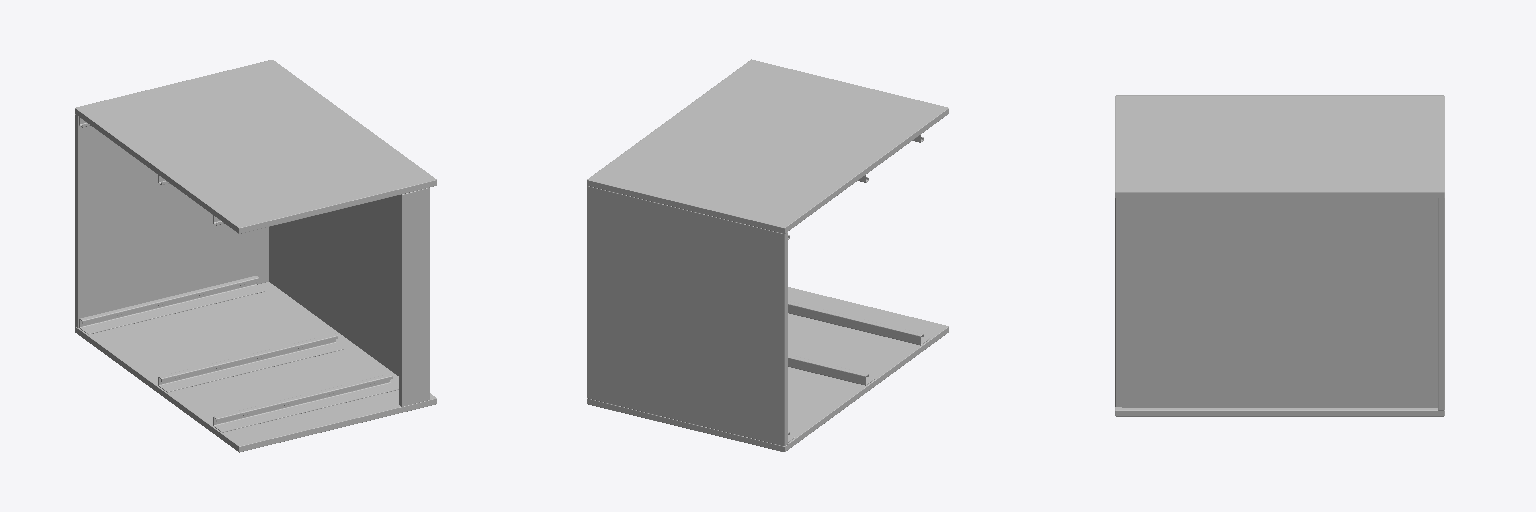
The model's file is SM_Kitchen_05_Base.obj.
The picture shows the model from 3 angles: view 1: azimuth 30°, elevation 25°; view 2: azimuth 150°, elevation 25°; view 3: azimuth 270°, elevation 25°; orthographic projection.
Visible parts, largest first — view 1: SM_Kitchen_05_Base; view 2: SM_Kitchen_05_Base; view 3: SM_Kitchen_05_Base.
Part boxes in pixels (bbox=[...]): SM_Kitchen_05_Base: bbox=[75, 60, 436, 452]; SM_Kitchen_05_Base: bbox=[587, 59, 948, 451]; SM_Kitchen_05_Base: bbox=[1115, 95, 1444, 416].
Bounding box in the file's own units: 0.5549 × 0.5999 × 0.798.